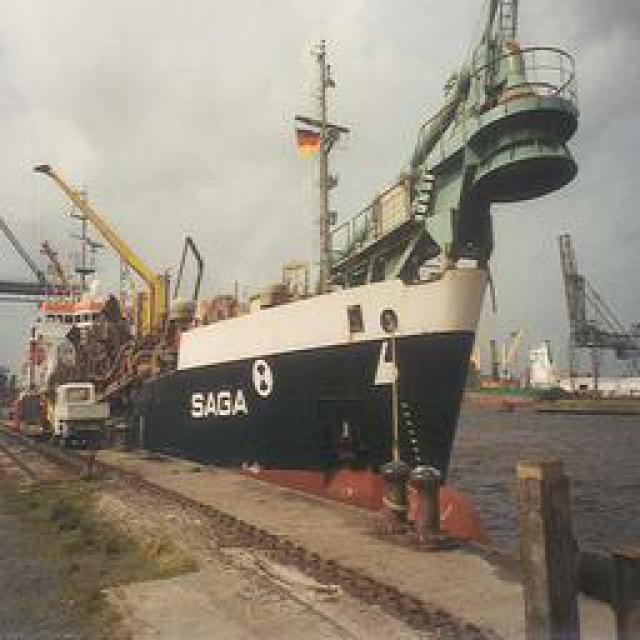Ship: (22, 1, 597, 545)
